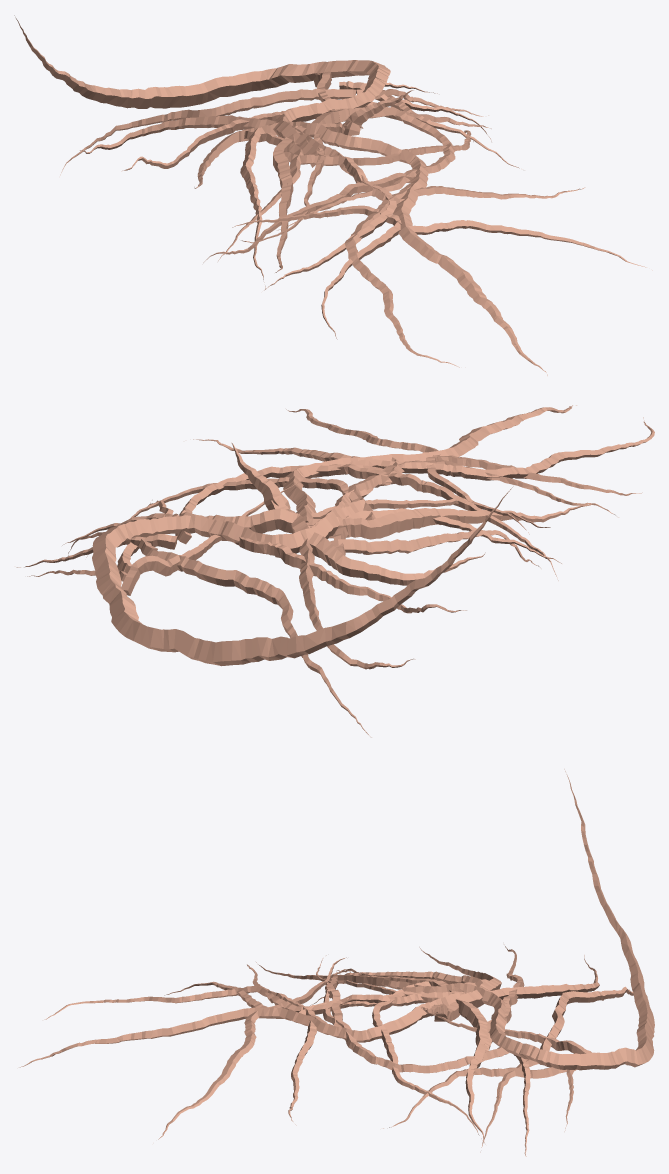
File: roots_ground_00.fbx
The picture shows the model from 3 angles, top to bottom: view 1: azimuth 30°, elevation 25°; view 2: azimuth 150°, elevation 25°; view 3: azimuth 270°, elevation 25°; orthographic projection. The views are drawn at different scales.
Parts seen in each view (by area): view 1: roots_ground_00; view 2: roots_ground_00; view 3: roots_ground_00.
Part boxes in pixels (left/top/right/bottom): roots_ground_00: left=14, top=15, right=652, bottom=375; roots_ground_00: left=16, top=405, right=654, bottom=737; roots_ground_00: left=19, top=769, right=654, bottom=1156.
Size of the model in its own units: 863 by 386 by 1123.
